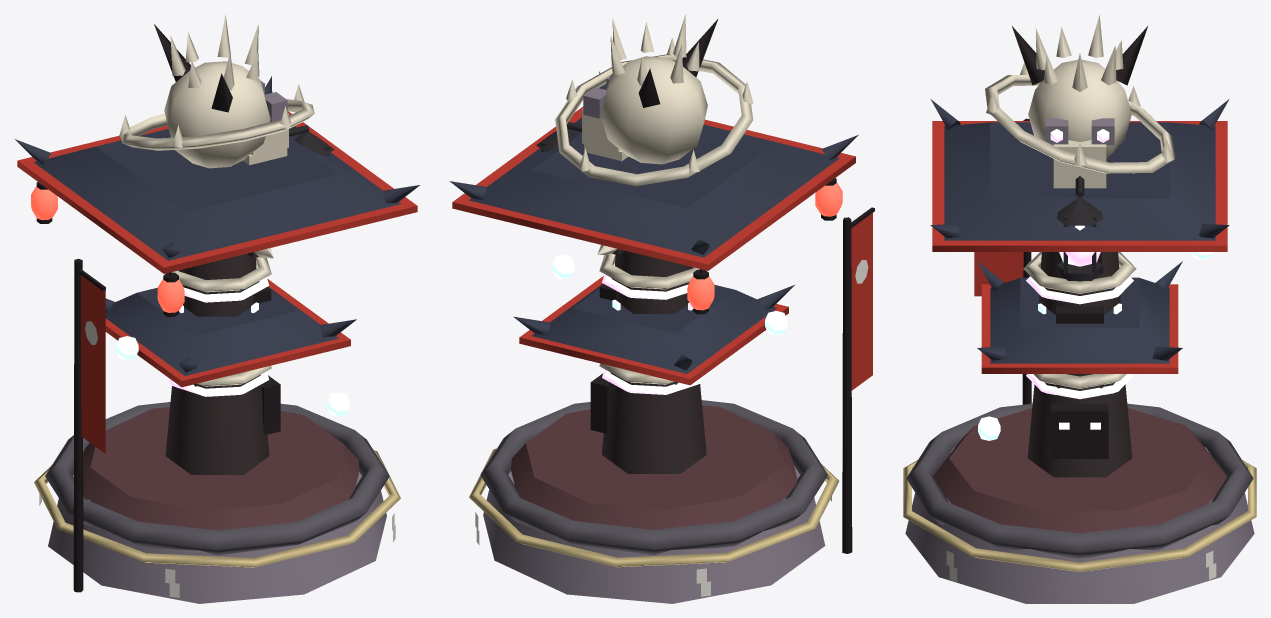
The model's file is tower_necromancer_soulLord.glb.
3 renders of one model, left to right at view 1: azimuth 30°, elevation 25°; view 2: azimuth 150°, elevation 25°; view 3: azimuth 270°, elevation 25°, orthographic.
Visible parts, largest first — view 1: deco_eave_0_roof, grave_soil, base, base_rim, deco_eave_1_roof, pole_0, deco_eave_0_rim, skull_cranium, deco_shimenawa_rope, deco_nobori_cloth, deco_eave_1_rim, bone_orbit (+13 smaller); view 2: deco_eave_0_roof, grave_soil, base, base_rim, deco_eave_1_roof, skull_cranium, pole_0, deco_eave_0_rim, bone_orbit, deco_shimenawa_rope, deco_eave_1_rim, deco_nobori_cloth (+14 smaller); view 3: deco_eave_0_roof, grave_soil, base, base_rim, deco_eave_1_roof, deco_eave_0_rim, skull_cranium, pole_0, deco_shimenawa_rope, deco_eave_1_rim, bone_orbit, pole_face_0 (+18 smaller).
Boxes of the visible parts, <box> form: deco_eave_0_roof: <box>34,126,400,260</box>; grave_soil: <box>83,407,359,530</box>; base: <box>48,472,386,603</box>; base_rim: <box>45,402,389,555</box>; deco_eave_1_roof: <box>105,286,338,375</box>; pole_0: <box>165,375,269,474</box>; deco_eave_0_rim: <box>17,111,417,273</box>; skull_cranium: <box>164,61,270,168</box>; deco_shimenawa_rope: <box>34,450,400,567</box>; deco_nobori_cloth: <box>81,275,105,453</box>; deco_eave_1_rim: <box>105,279,350,387</box>; bone_orbit: <box>120,99,314,150</box>; deco_eave_0_roof: <box>469,117,839,257</box>; grave_soil: <box>511,405,797,529</box>; base: <box>483,466,825,603</box>; base_rim: <box>480,400,827,554</box>; deco_eave_1_roof: <box>532,283,776,373</box>; skull_cranium: <box>600,56,707,164</box>; pole_0: <box>602,373,706,473</box>; deco_eave_0_rim: <box>452,106,855,270</box>; bone_orbit: <box>555,54,753,186</box>; deco_shimenawa_rope: <box>469,448,839,567</box>; deco_eave_1_rim: <box>519,276,788,385</box>; deco_nobori_cloth: <box>851,213,872,390</box>; deco_eave_0_roof: <box>944,122,1215,240</box>; grave_soil: <box>933,408,1226,533</box>; base: <box>905,447,1254,603</box>; base_rim: <box>906,403,1253,558</box>; deco_eave_1_roof: <box>990,277,1169,363</box>; deco_eave_0_rim: <box>932,121,1227,251</box>; skull_cranium: <box>1028,60,1131,158</box>; pole_0: <box>1027,382,1132,477</box>; deco_shimenawa_rope: <box>903,460,1256,571</box>; deco_eave_1_rim: <box>981,284,1178,373</box>; bone_orbit: <box>985,75,1174,173</box>; pole_face_0: <box>1051,403,1108,458</box>.
Bounding box in the file's own units: 0.4387 × 0.634 × 0.4052.
